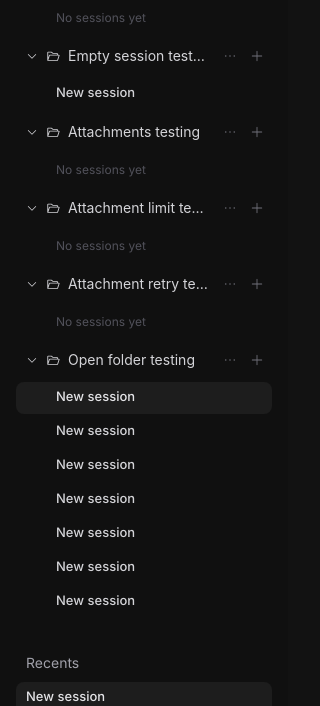
Scenario: folder names toggle all sessions and the plain plus reopens a closed folder
(page scrolled)
Click the button "Open folder testing" at (117, 360), box 16,342 -> 218,378
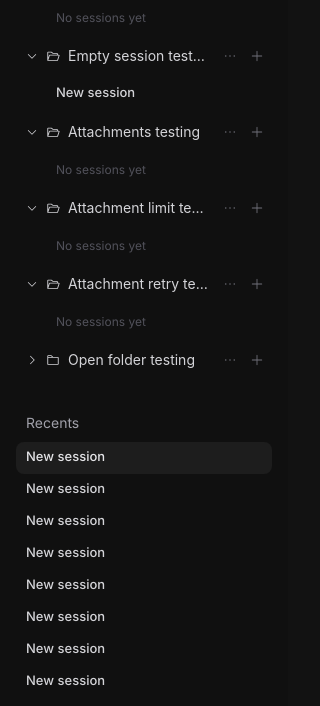
Check: the button with aria-label "Toggle Open folder testing" is collapsed
Click the button "Open folder testing" at (117, 360), box 16,342 -> 218,378
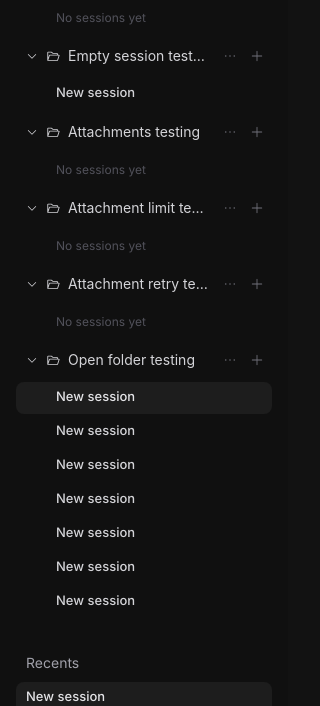
Click the button with aria-label "Toggle Open folder testing" at (117, 360), box 16,342 -> 218,378
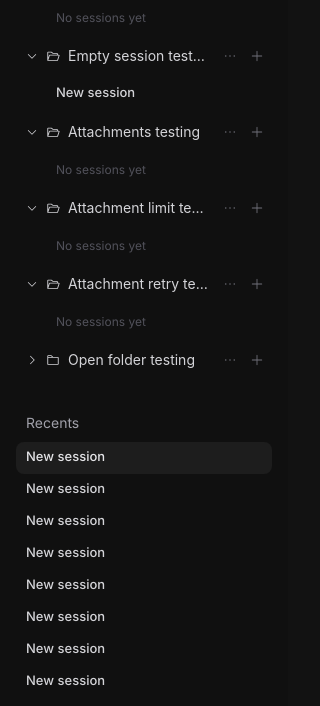
Click the button named "New session in Open folder testing" at (257, 360), box 242,345 -> 272,375
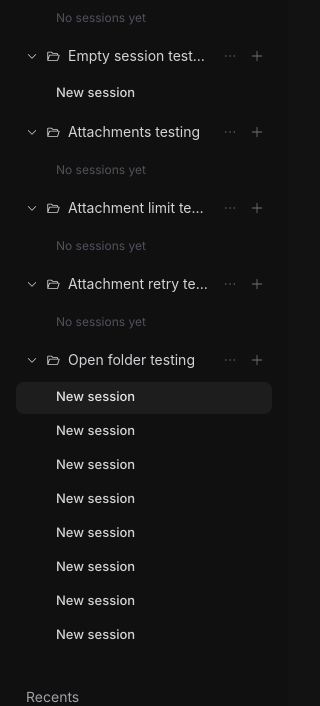
Check: the button with aria-label "Toggle Open folder testing" is expanded, box 16,342 -> 218,378
